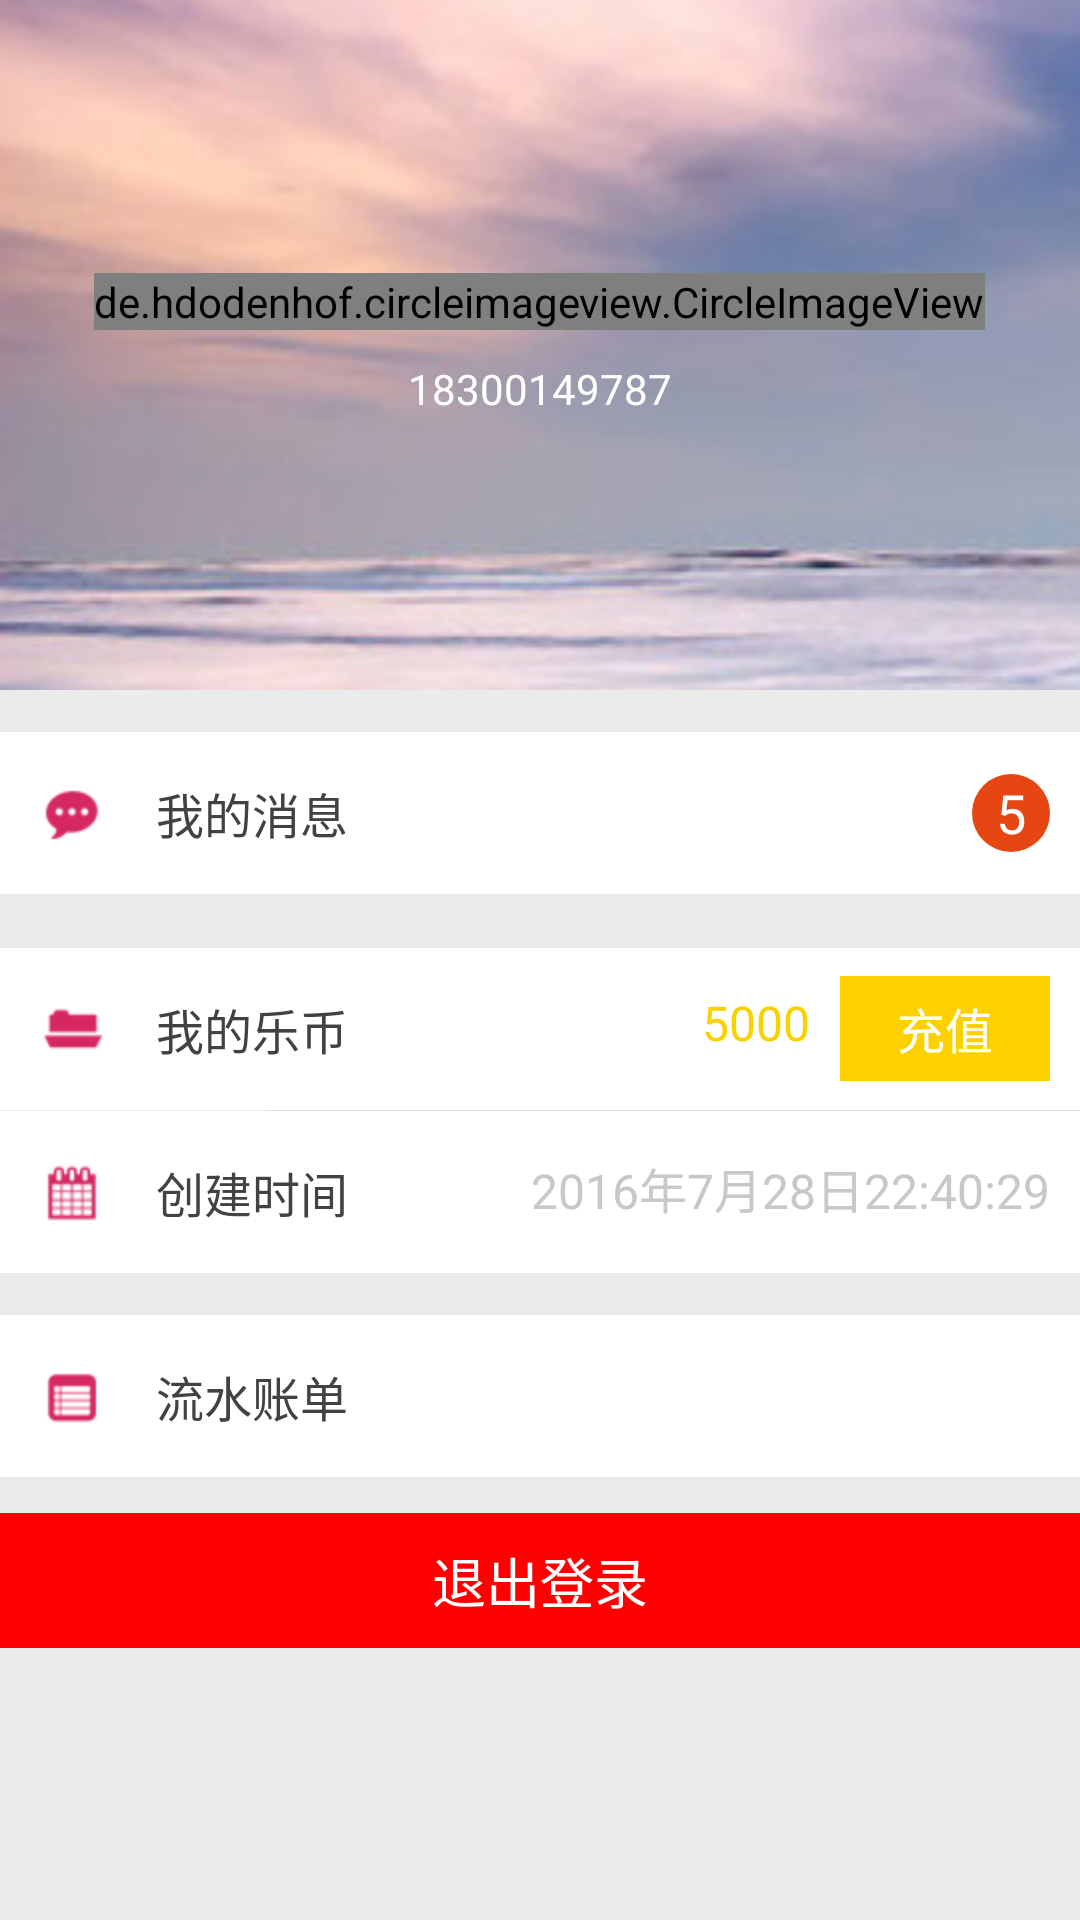

Named icons in this screenshot (1080*1920) and their bounding boxes, (x1, y1, x2, y2):
userinfo create time: (47, 1165, 97, 1221)
userinfo msg: (45, 790, 99, 840)
userinfo record: (47, 1373, 97, 1422)
